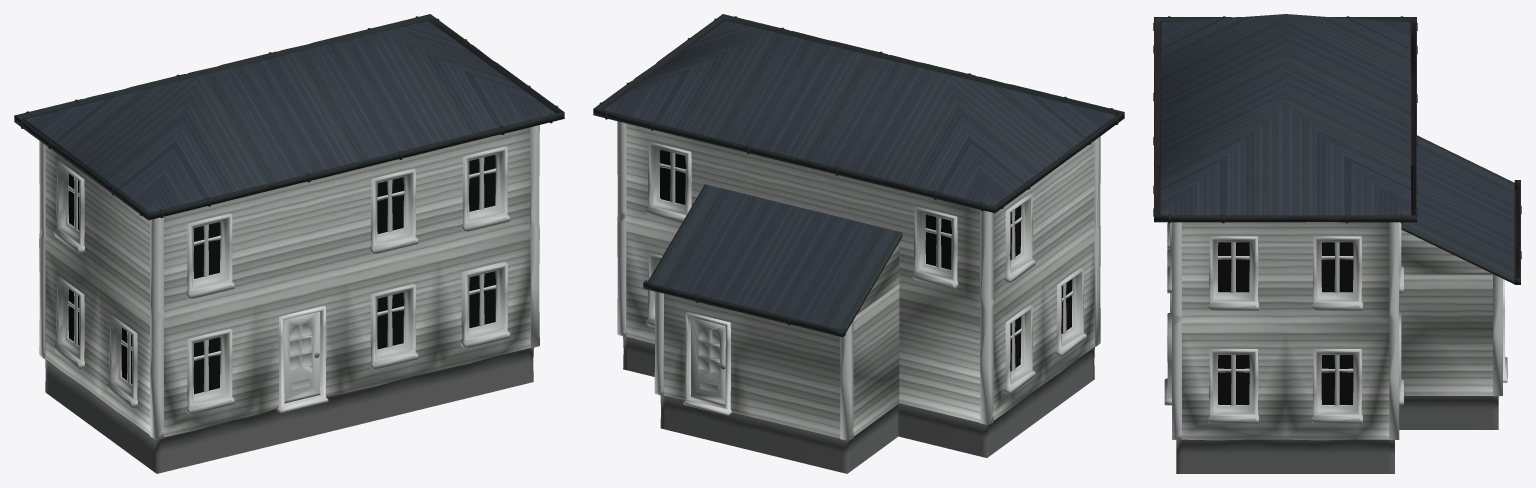
Rendered from v3-buildings-suburban-SM_Bld_House_Preset_09_1845.glb.
The picture shows the model from 3 angles, left to right: view 1: azimuth 30°, elevation 25°; view 2: azimuth 150°, elevation 25°; view 3: azimuth 270°, elevation 25°; orthographic projection. The views are drawn at different scales.
Parts seen in each view (by area): view 1: suburban-house_2; view 2: suburban-house_2; view 3: suburban-house_2.
Boxes of the visible parts, x1=… form: suburban-house_2: x1=14, y1=14, x2=564, y2=473; suburban-house_2: x1=593, y1=14, x2=1124, y2=473; suburban-house_2: x1=1153, y1=14, x2=1521, y2=473.
Bounding box in the file's own units: 11.37 × 8.67 × 8.87.
1 material, 1 textured.
